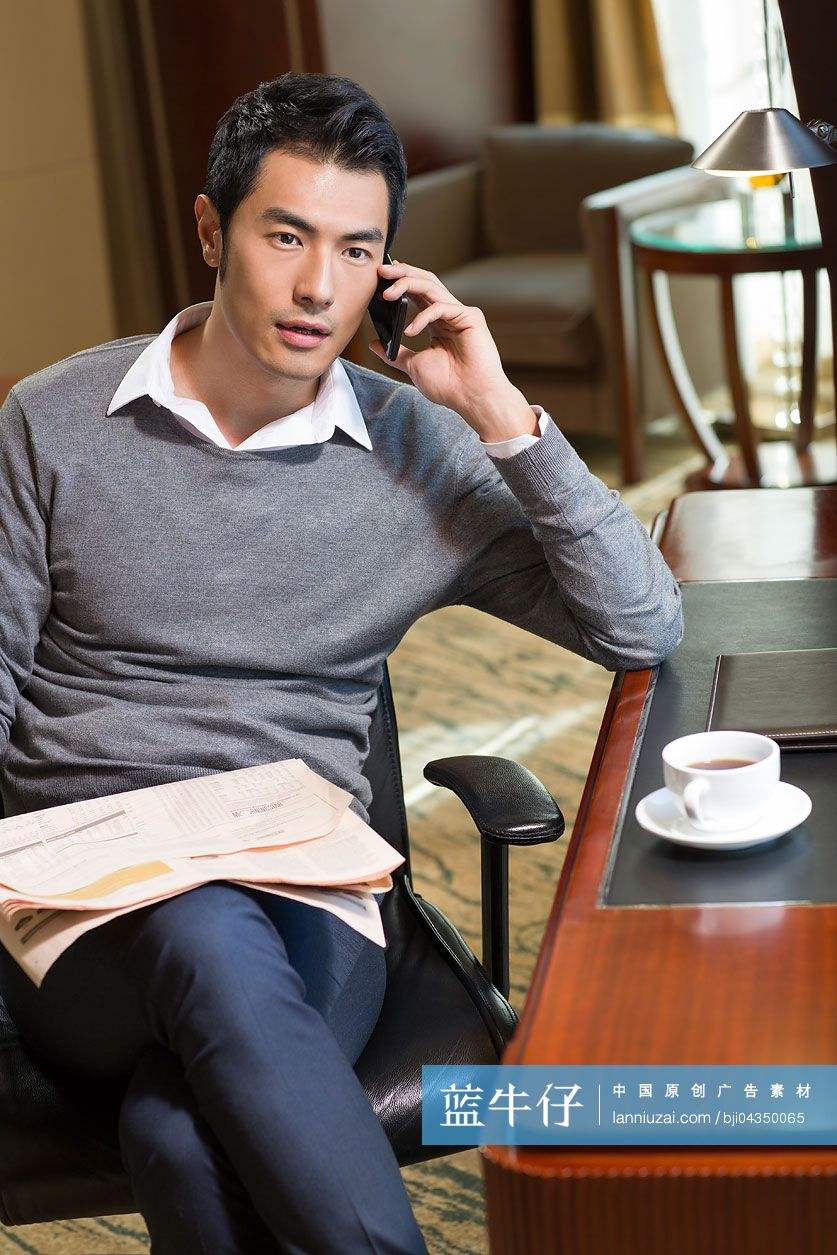calling: (352, 244, 508, 412)
